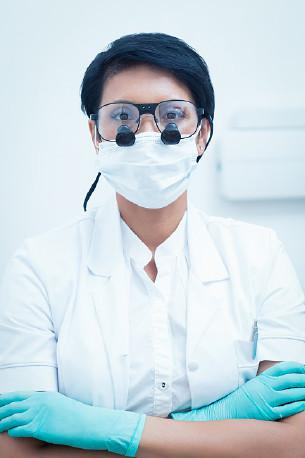OK: (101, 102, 201, 202)
